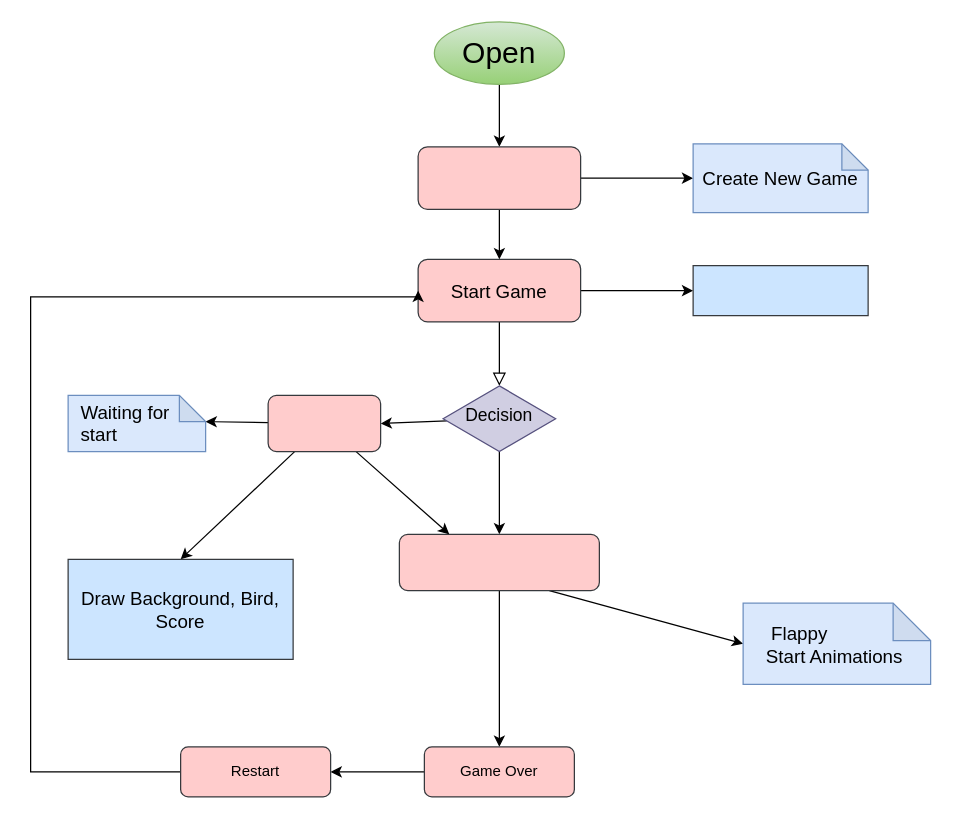
Some shapes in this 953 by 819 pixel diagram are drawn without their labels. Each missing label, with the centre of its shape:
Open GameLoop: point (780, 290)
Playing: point (498, 562)
Preparing for Game: point (499, 177)
Visualizing: point (324, 423)
